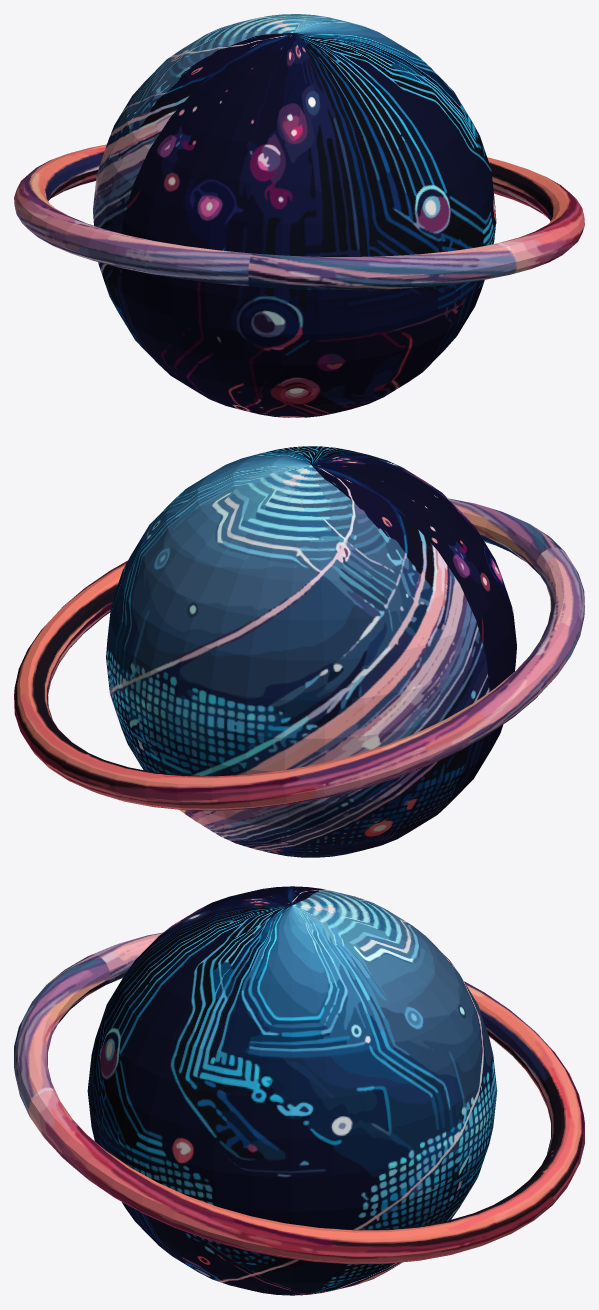
Rendered from HeroPlanet.gltf.
3 views of the same model, one above another, from view 1: azimuth 30°, elevation 25°; view 2: azimuth 150°, elevation 25°; view 3: azimuth 270°, elevation 25° (orthographic).
Parts seen in each view (by area): view 1: Sphere.001, Torus; view 2: Sphere.001, Torus; view 3: Sphere.001, Torus.
Part boxes in pixels (left/top/right/bottom): Sphere.001: left=93, top=14, right=496, bottom=417; Torus: left=14, top=144, right=584, bottom=289; Sphere.001: left=106, top=446, right=516, bottom=857; Torus: left=14, top=498, right=584, bottom=810; Sphere.001: left=87, top=886, right=497, bottom=1295; Torus: left=14, top=932, right=584, bottom=1264.
Size of the model in its own units: 2.8 by 2 by 2.79.
Materials: 2 (2 with a texture image).
